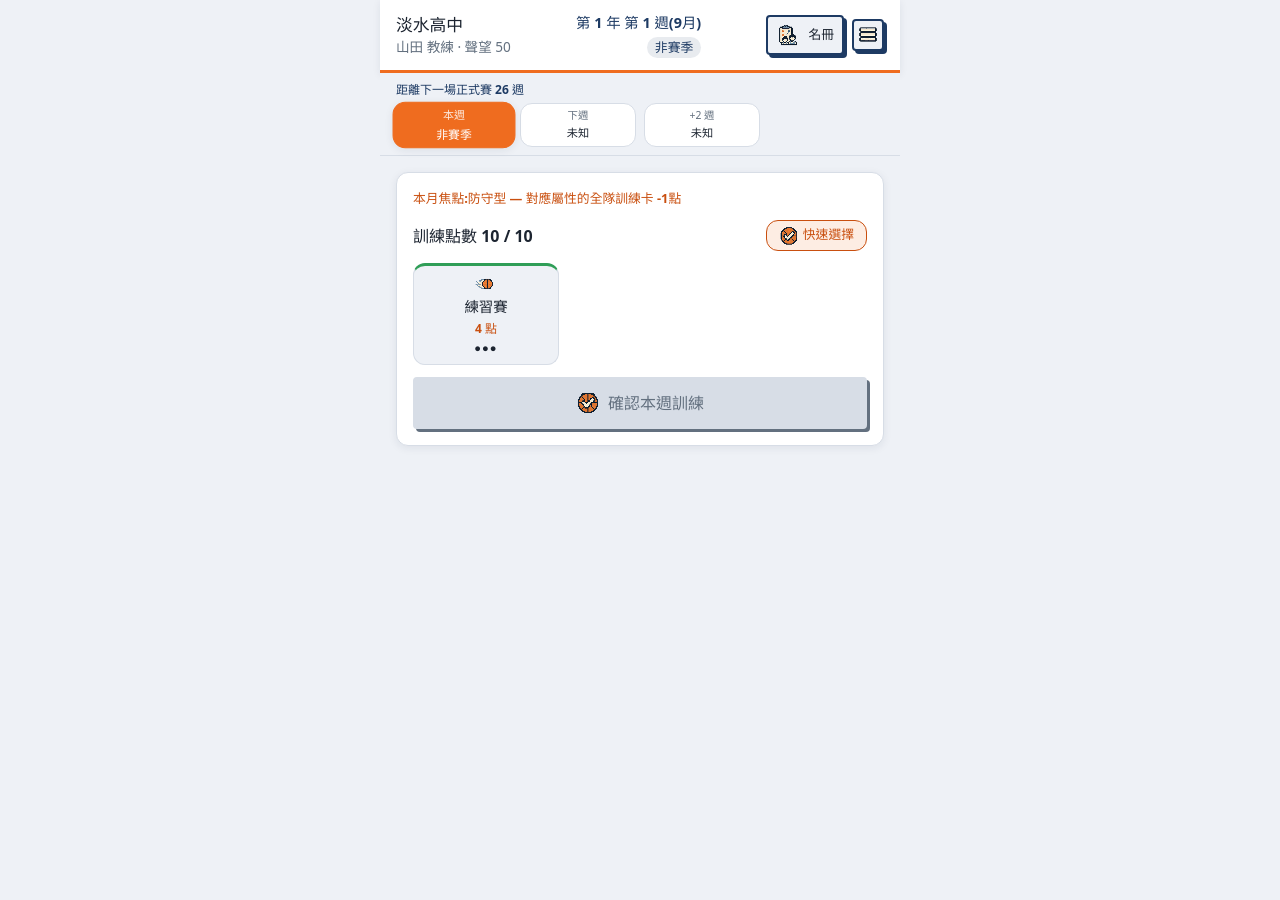
Test: App › advances the week and reports the result after a practiceMatch card
Click the button "練習賽 4 點 ●●●": coordinates (486, 314) [413, 263, 559, 365]
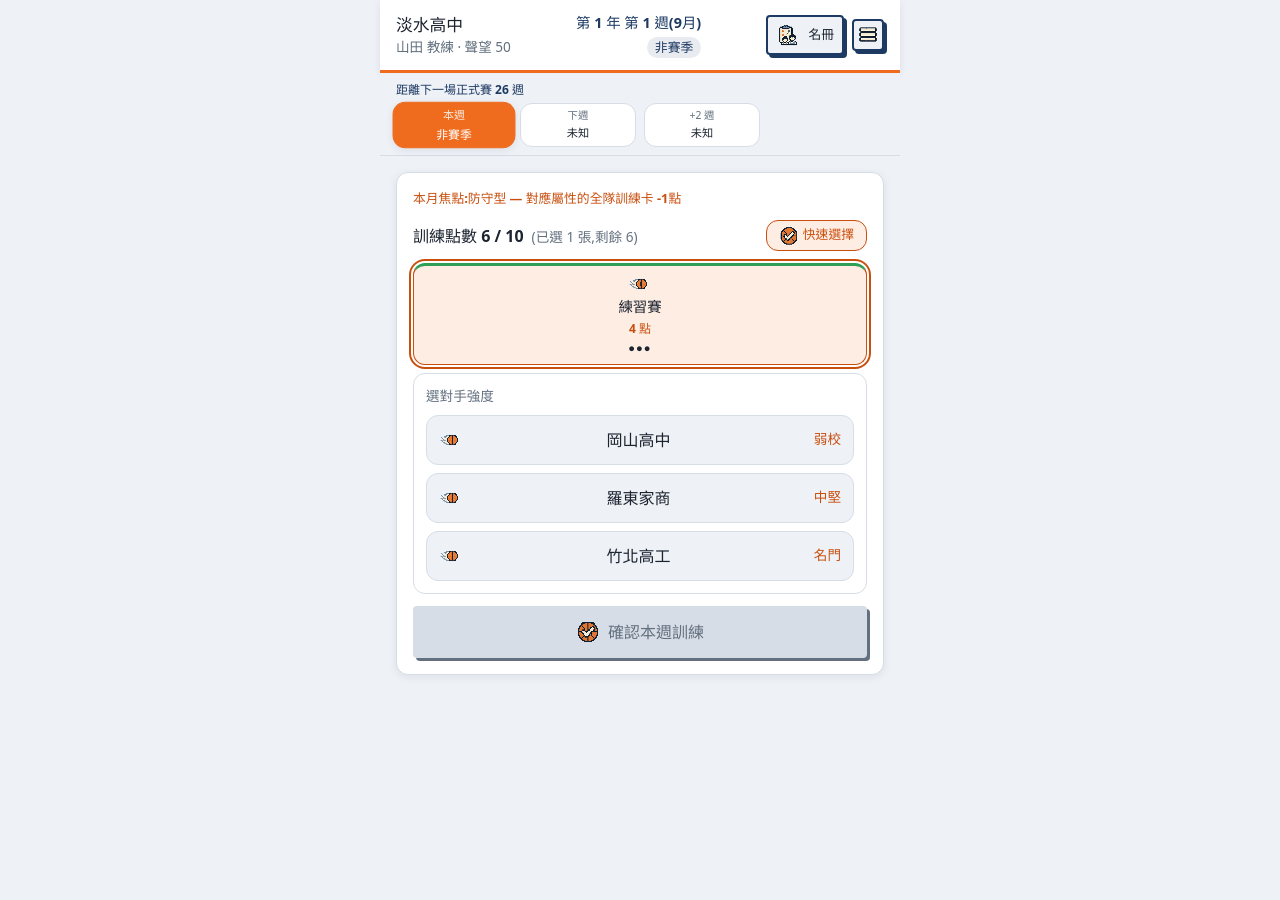
Click the 5th button: coordinates (640, 440) [426, 415, 854, 465]
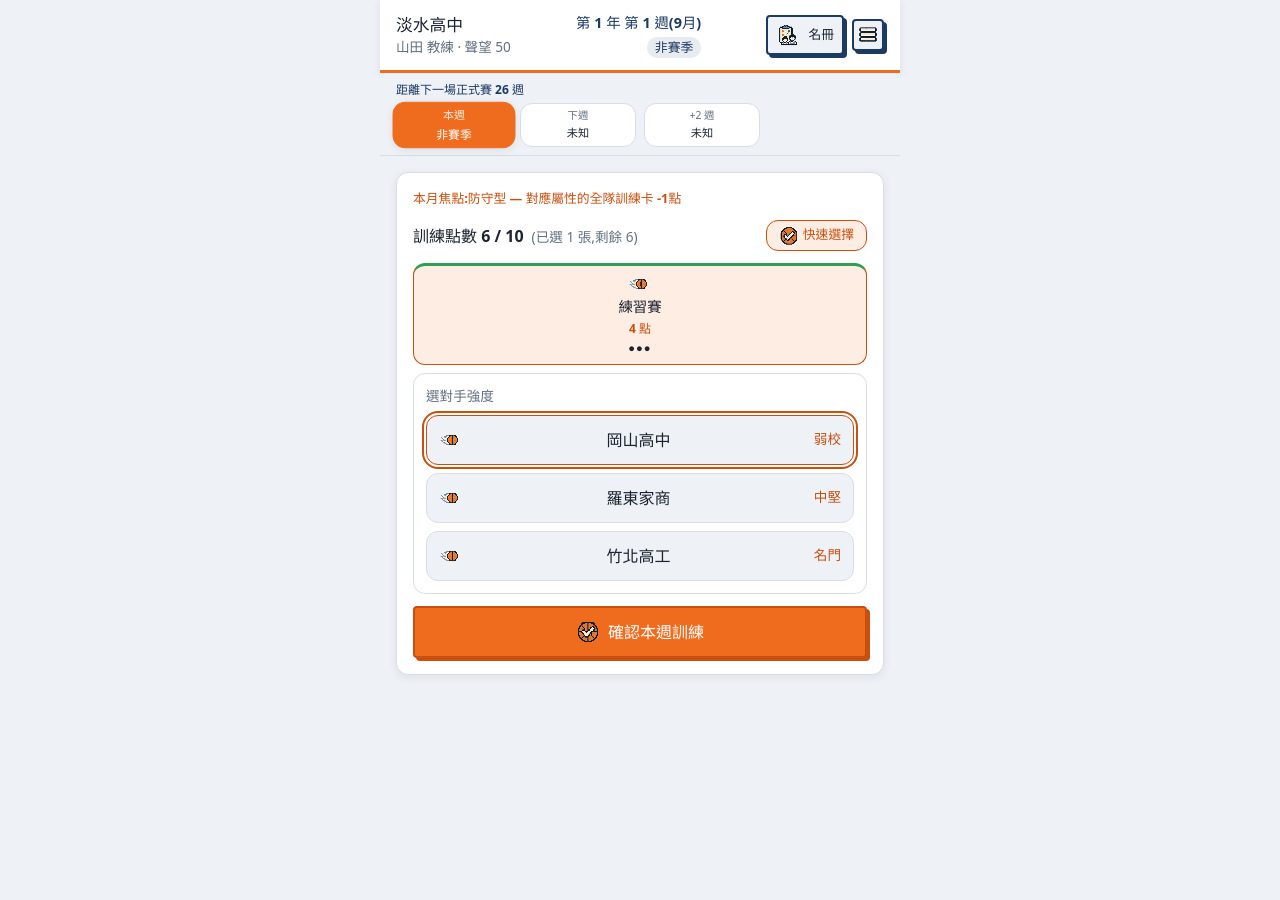
Click the button "確認本週訓練": coordinates (640, 632) [413, 606, 867, 658]
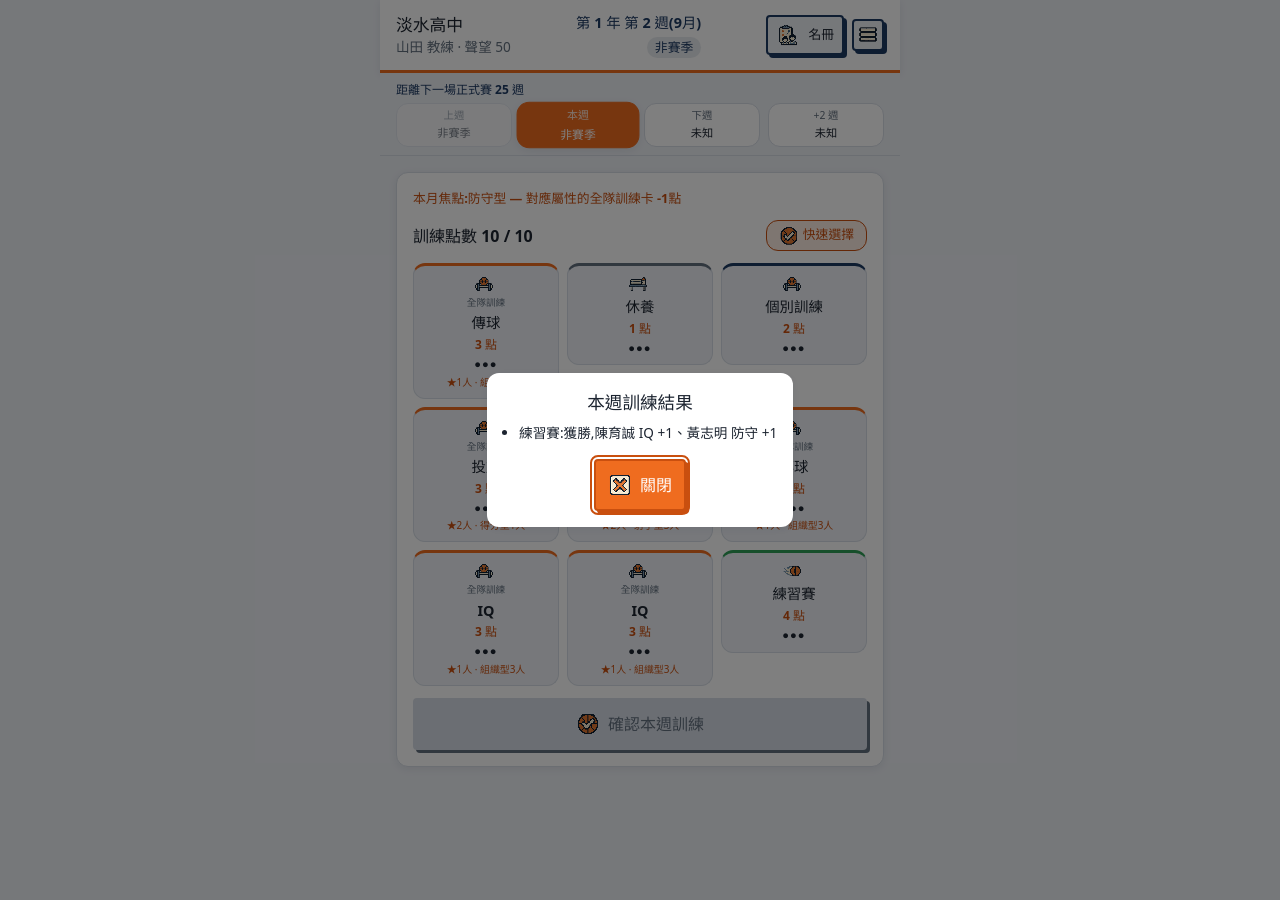
Check: the list item is shown, box [519, 423, 777, 443]
